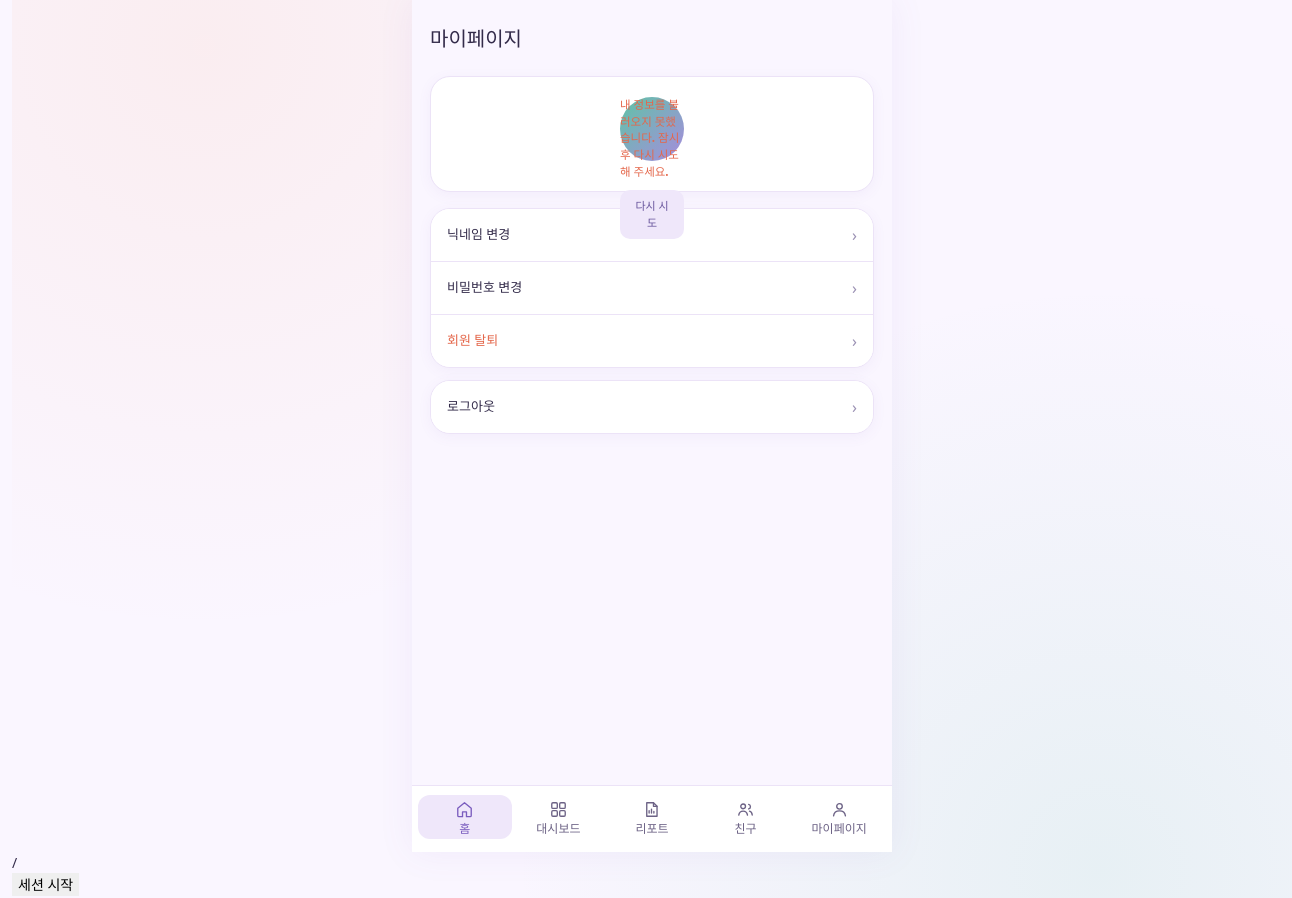
Test case: MyPage › 네트워크 오류에서는 목업 프로필 없이 재시도를 제공한다
The width and height of the screenshot is (1292, 898).
Expected: the message shows "내 정보를 불러오지 못했습니다.", [620,97,679,179]
Click the button "다시 시도" at (652, 215), box [620,190,684,239]
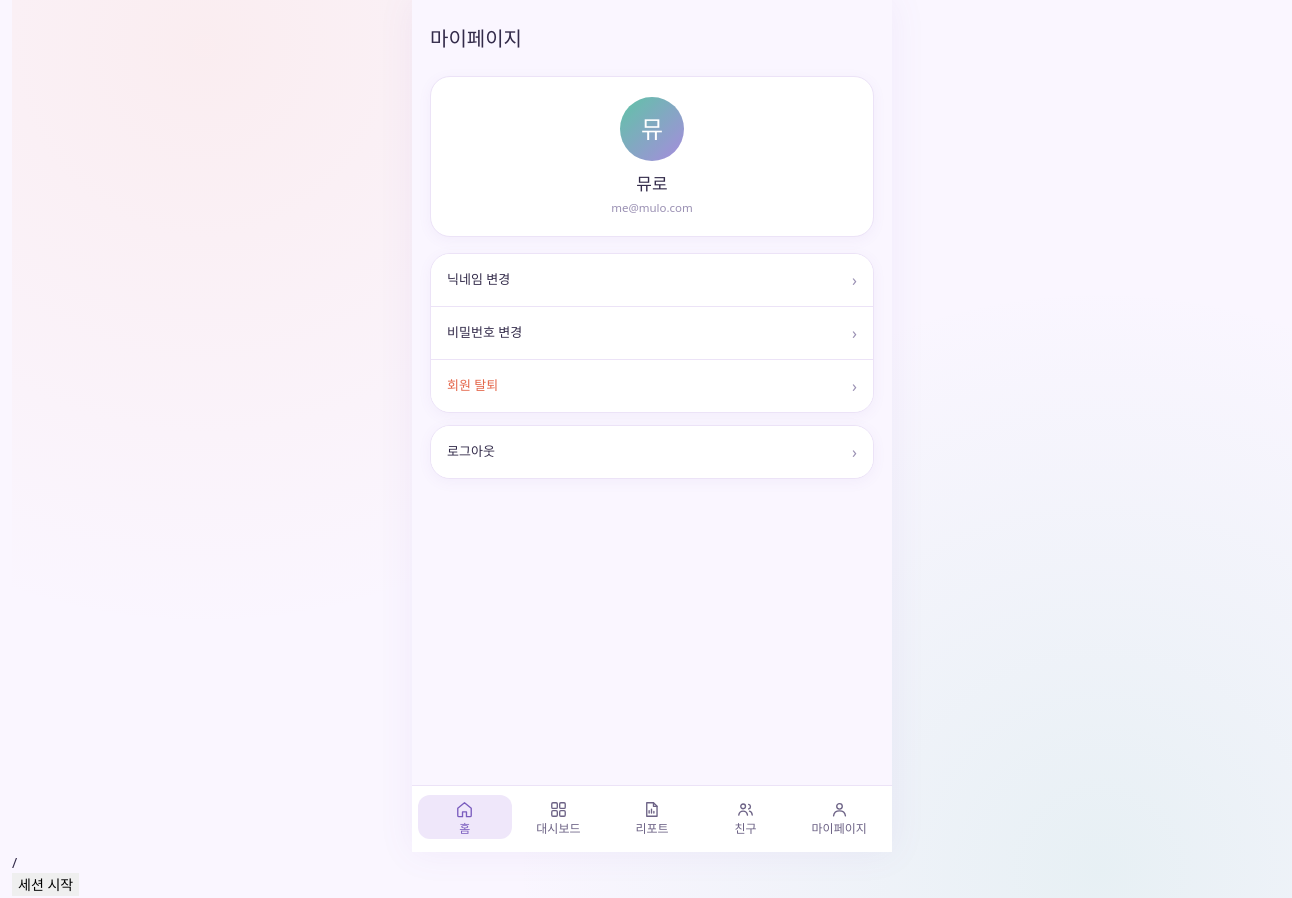
Result: the text "뮤로" is shown at [636,171,668,196]
